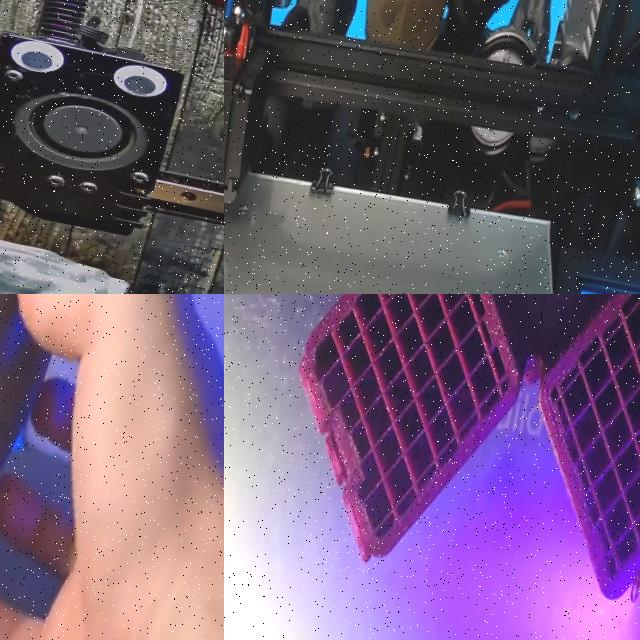spaghetti: (624, 556, 640, 619)
